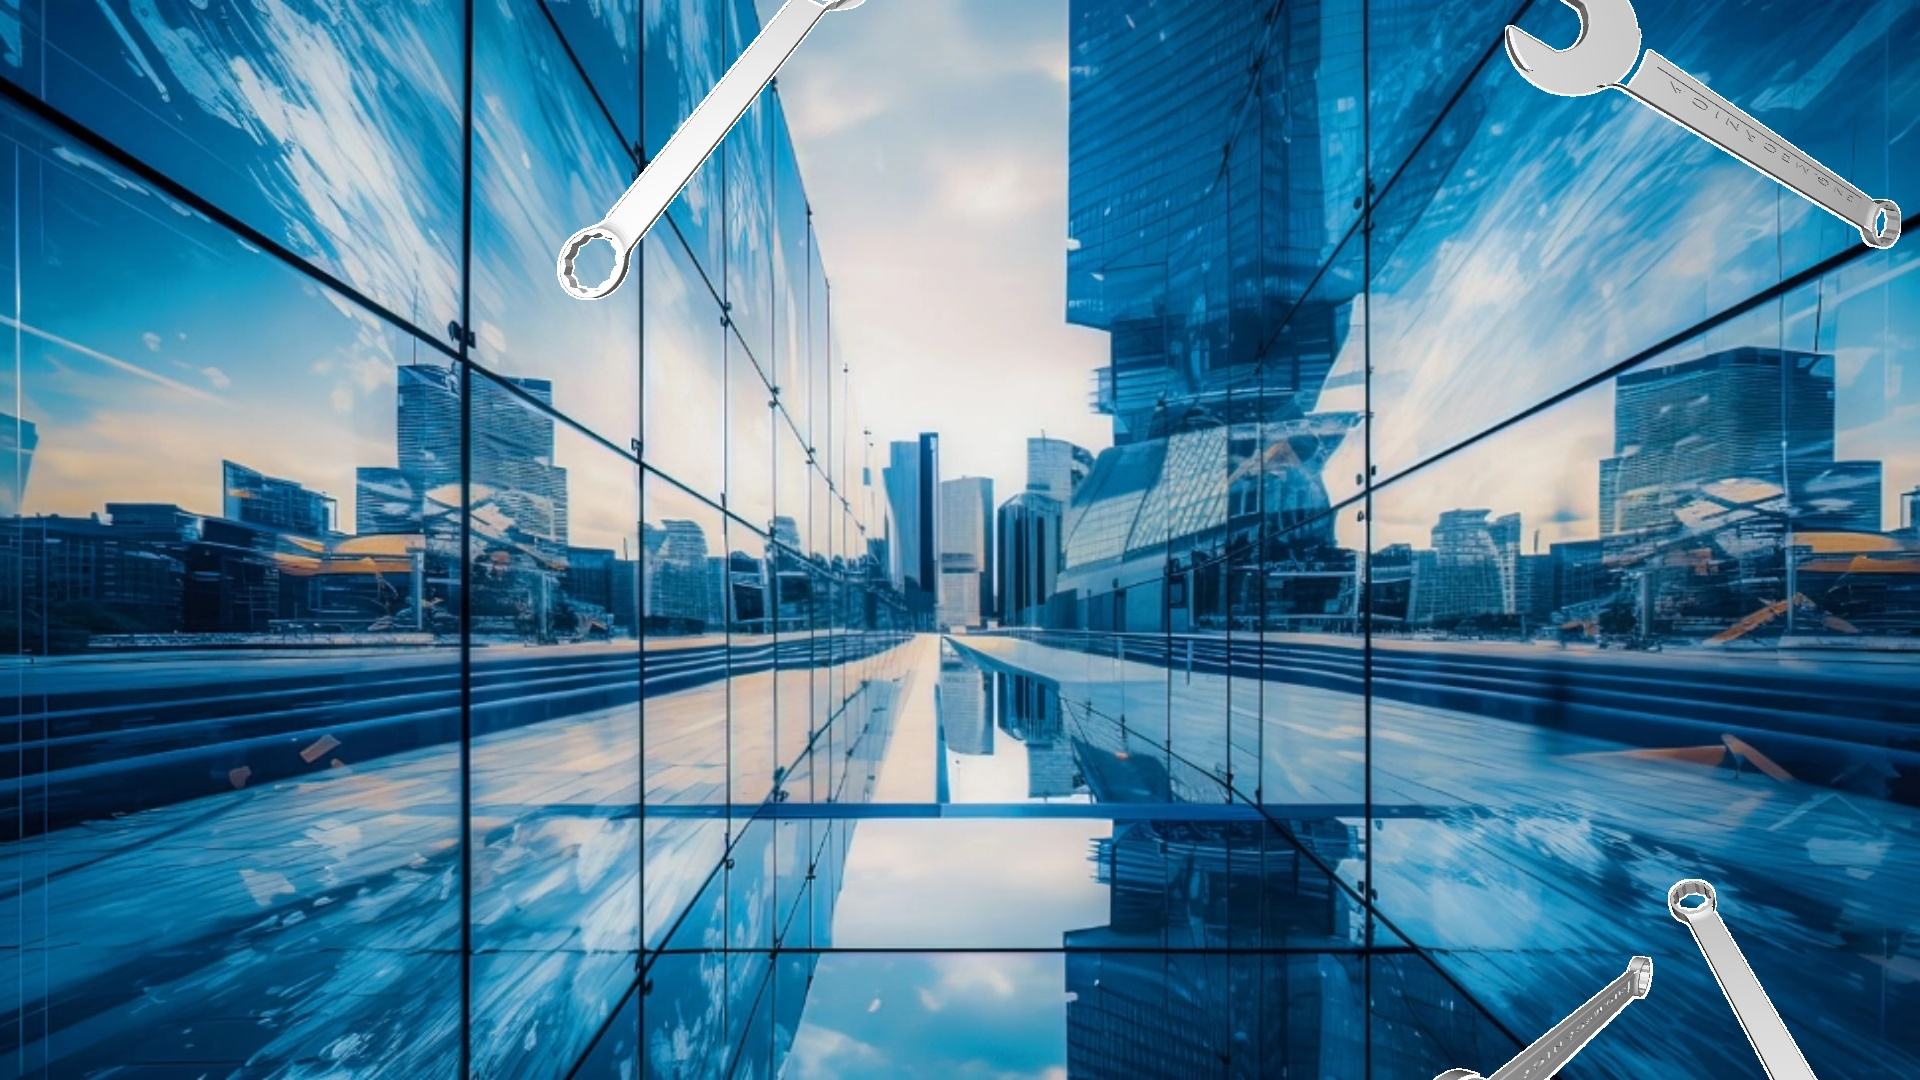Mixed Key: (1505, 0, 1900, 248), (556, 0, 865, 299), (1668, 880, 1817, 1079), (1433, 956, 1652, 1079)
